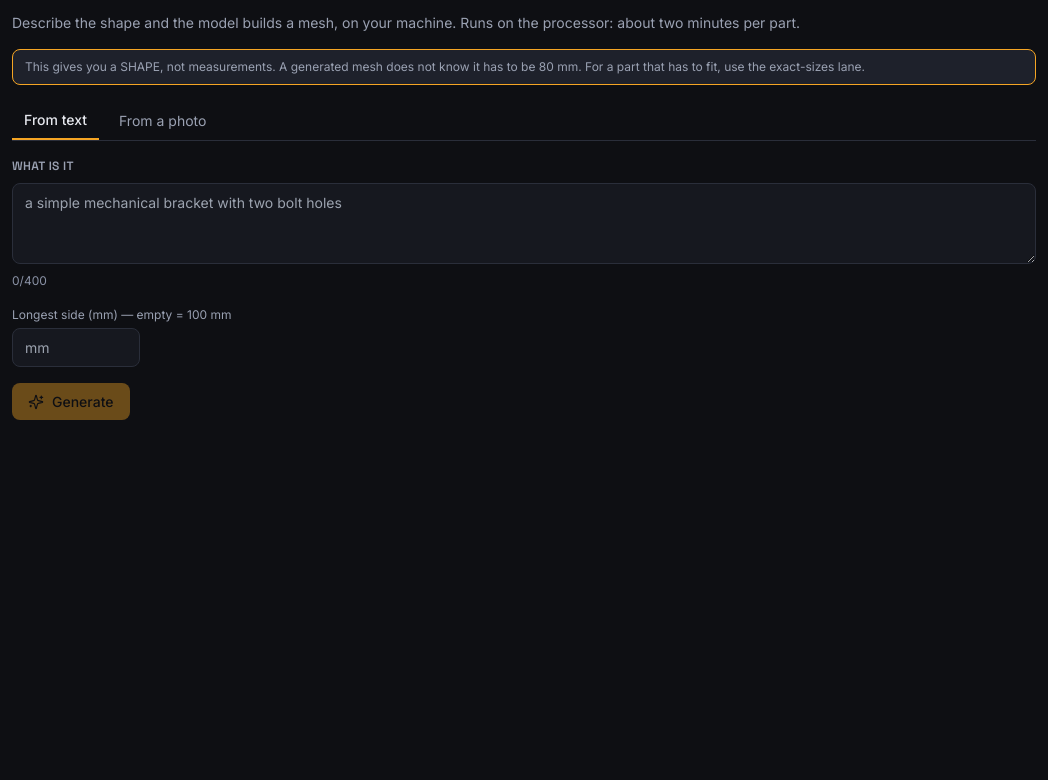
Test: MeshGenerator › shows the verdict and the measurements when it finishes
This screenshot has width=1048, height=780.
In the text box: (524, 224) [12, 183, 1036, 264], type "algo"
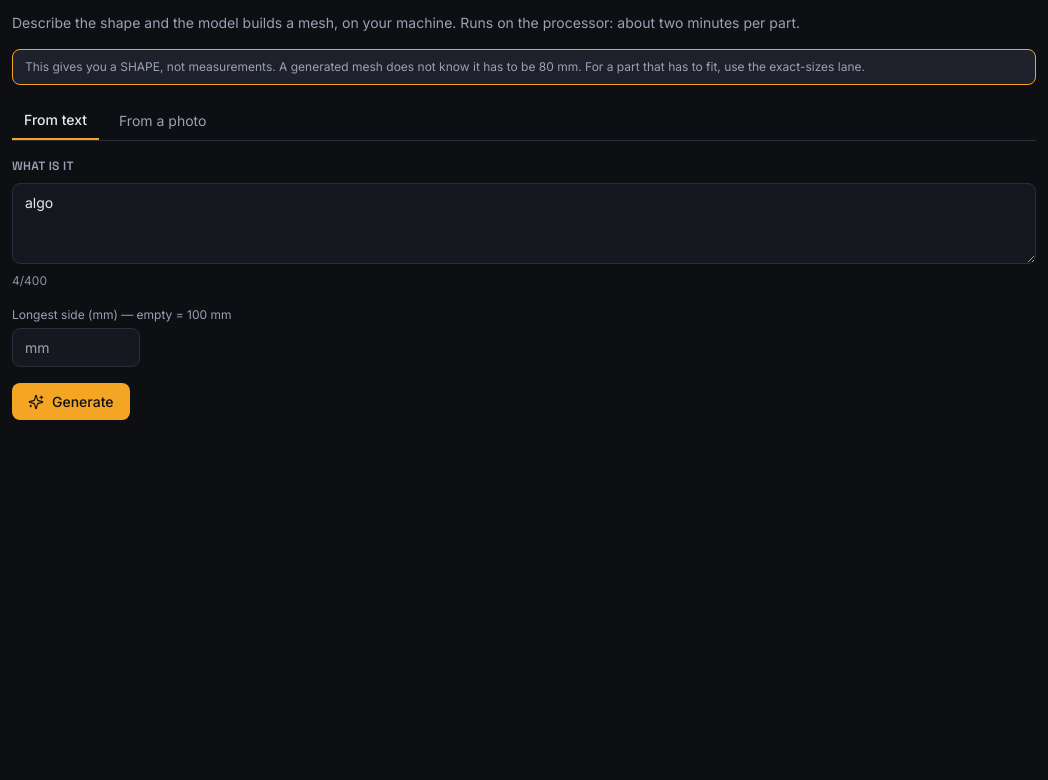
Click the button "Generate": (71, 402) [12, 383, 130, 420]
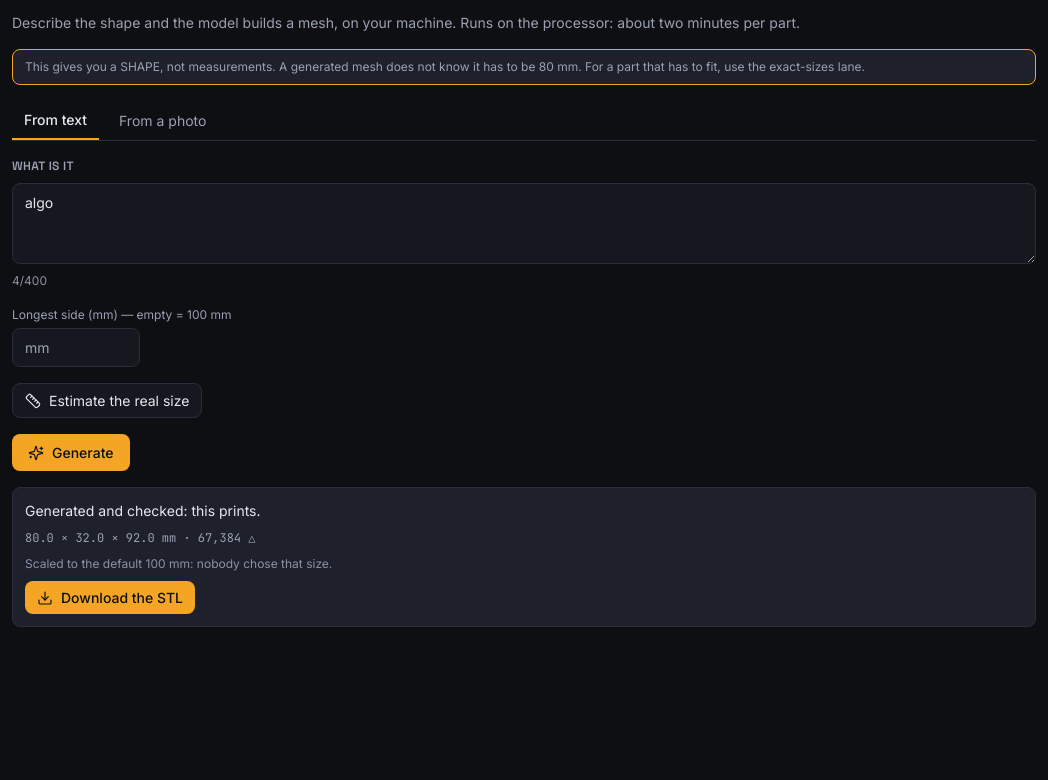
expect the text "Generated and checked: this prints." is shown: met, box [25, 502, 260, 519]
expect the text "80.0 × 32.0 × 92.0 mm · 67,384 △" is shown: met, box [25, 530, 256, 546]
